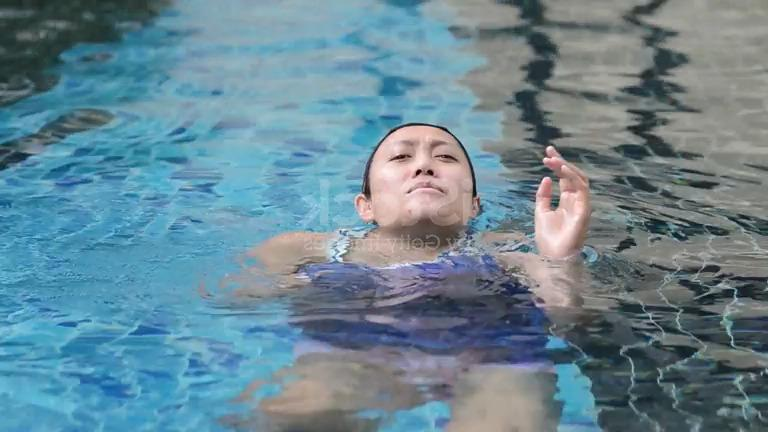Drowning: (133, 16, 675, 373)
